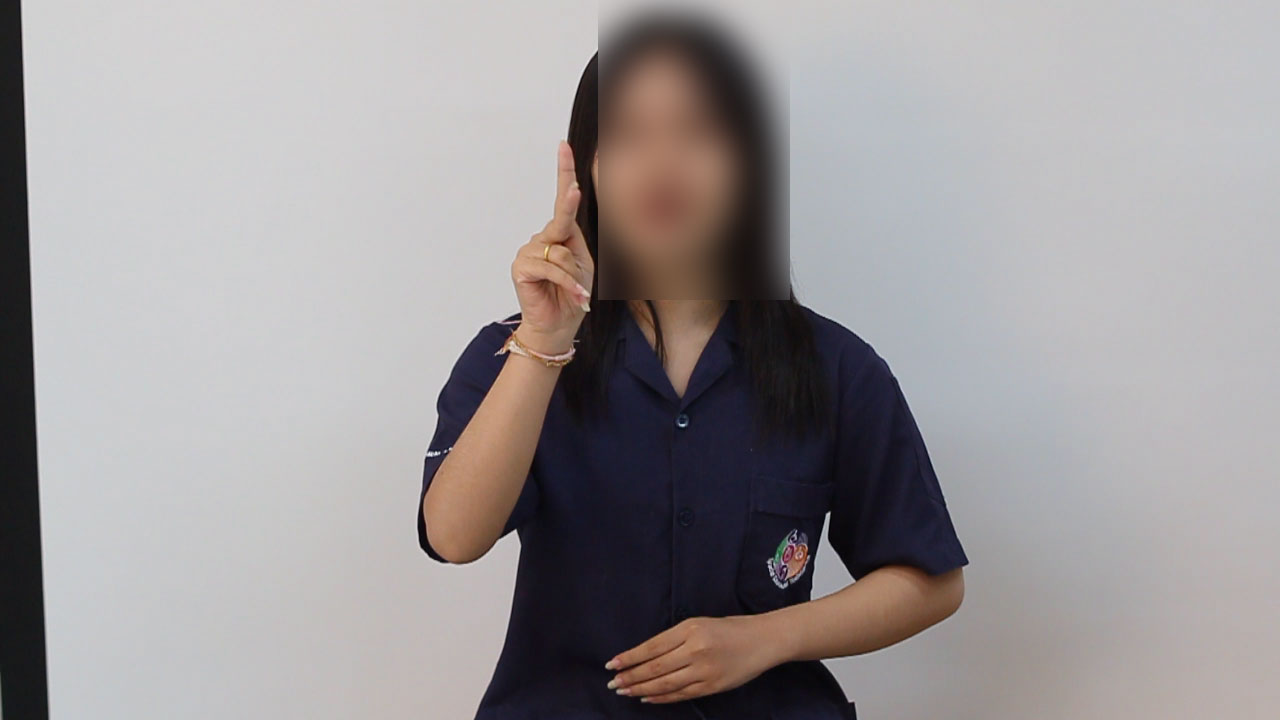ko: (450, 124, 621, 364)
